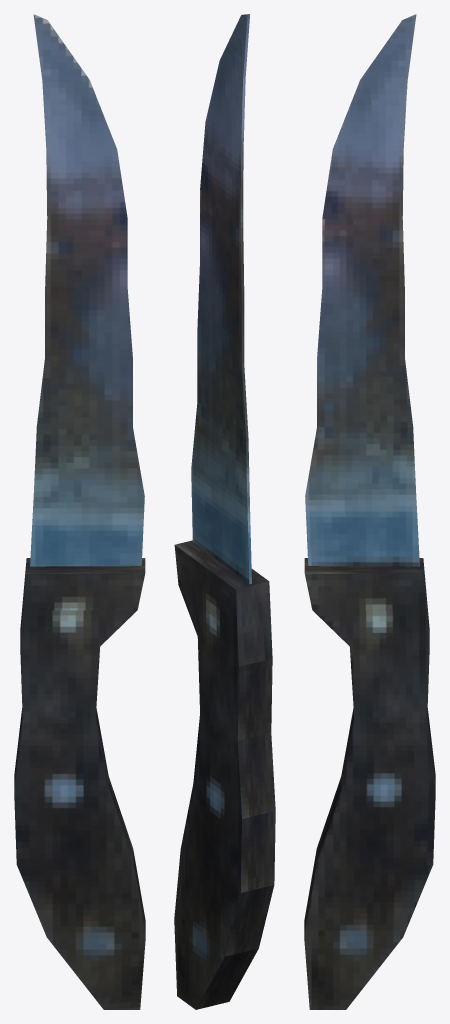
File: PSX Rusted Knife.fbx
3 renders of one model, left to right at view 1: azimuth 90°, elevation 25°; view 2: azimuth 210°, elevation 25°; view 3: azimuth 270°, elevation 25°, orthographic. The views are drawn at different scales.
Visible parts, largest first — view 1: PSX Rusted Knife; view 2: PSX Rusted Knife; view 3: PSX Rusted Knife.
Boxes of the visible parts, bbox=[...] form: PSX Rusted Knife: bbox=[14, 14, 145, 1009]; PSX Rusted Knife: bbox=[174, 14, 275, 1009]; PSX Rusted Knife: bbox=[304, 14, 435, 1009].
Bounding box in the file's own units: 16.5 × 478 × 57.69.
